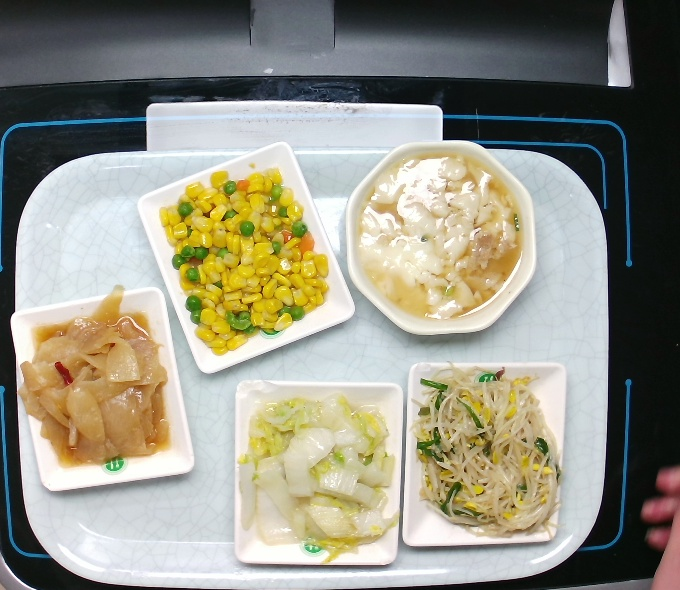wcq-DaBaiCai: (233, 386, 403, 567)
wcq-DongGua: (11, 278, 176, 473)
wcq-DouYa: (401, 356, 569, 550)
wcq-ShuiZhengDan: (349, 143, 534, 329)
wcq-TianMiTianDou: (156, 162, 336, 359)
